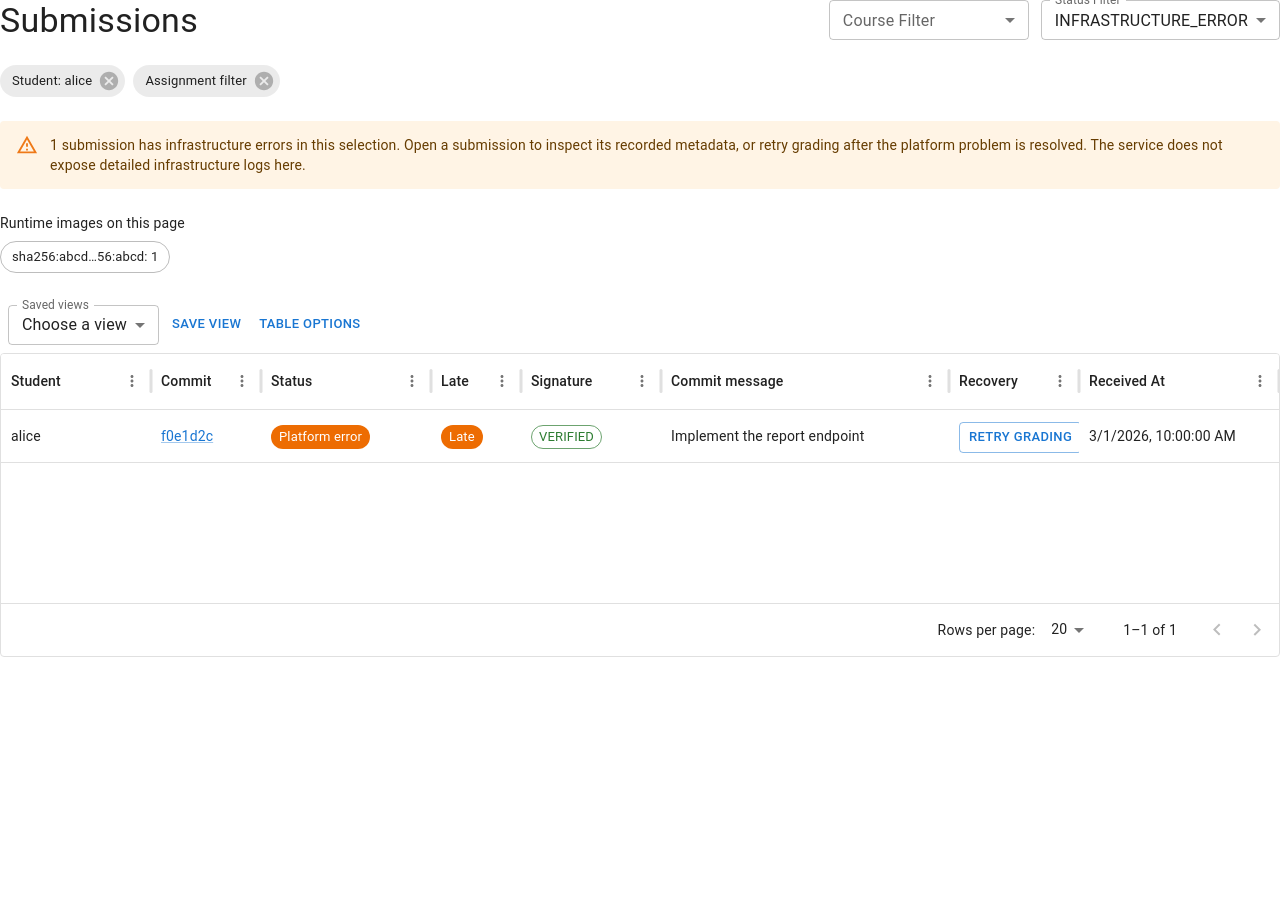
Test: passes scoped filters to the REST API and retries only after confirmation
Expected: the text "1 submission has infrastructure errors in this selection" is shown, [50,137,400,153]
Click the button "Retry grading" at x=1021, y=437, box [959,422,1082,453]
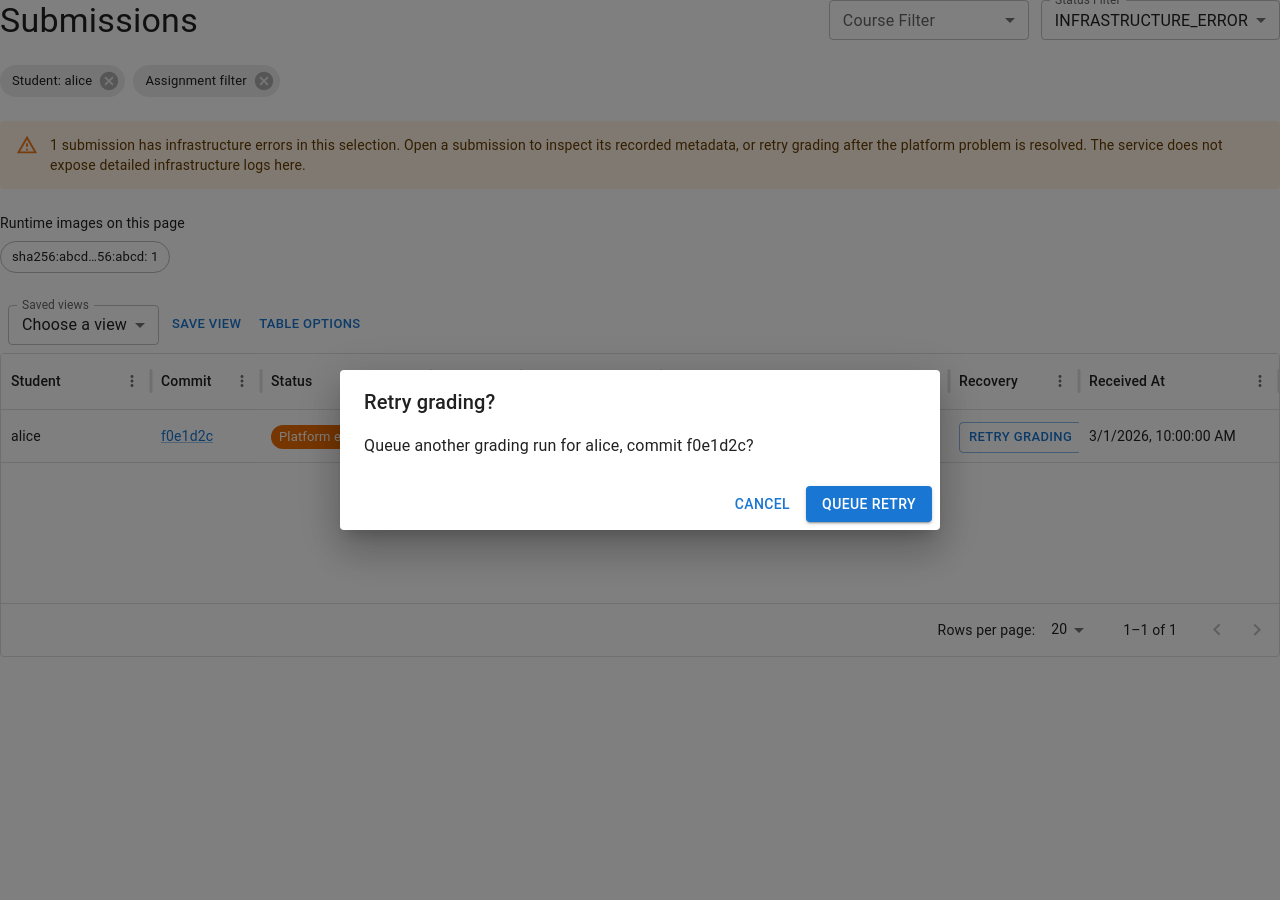
Click the button "Cancel" at x=762, y=504, box [727,486,798,522]
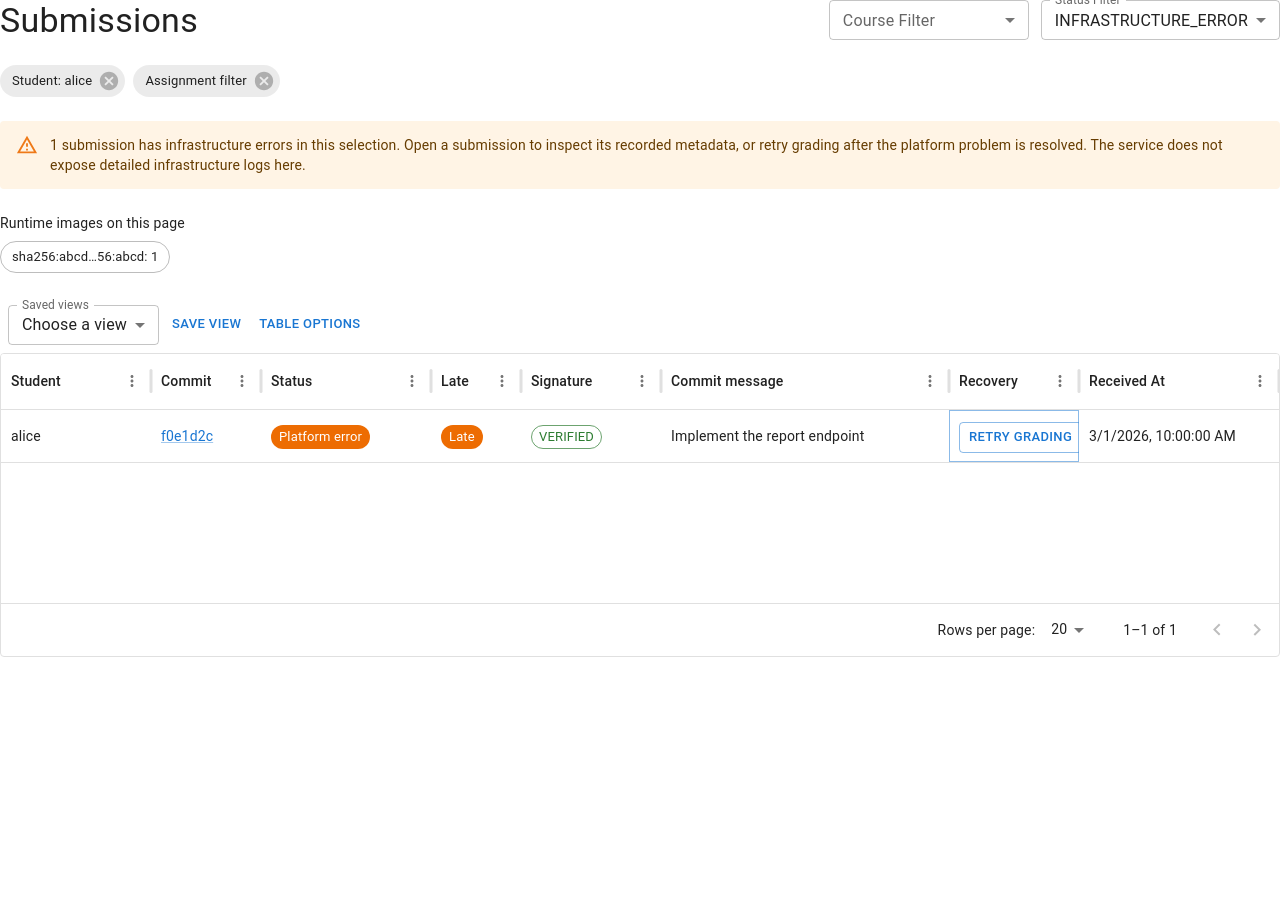
Click the button "Retry grading" at x=1021, y=437, box [959,422,1082,453]
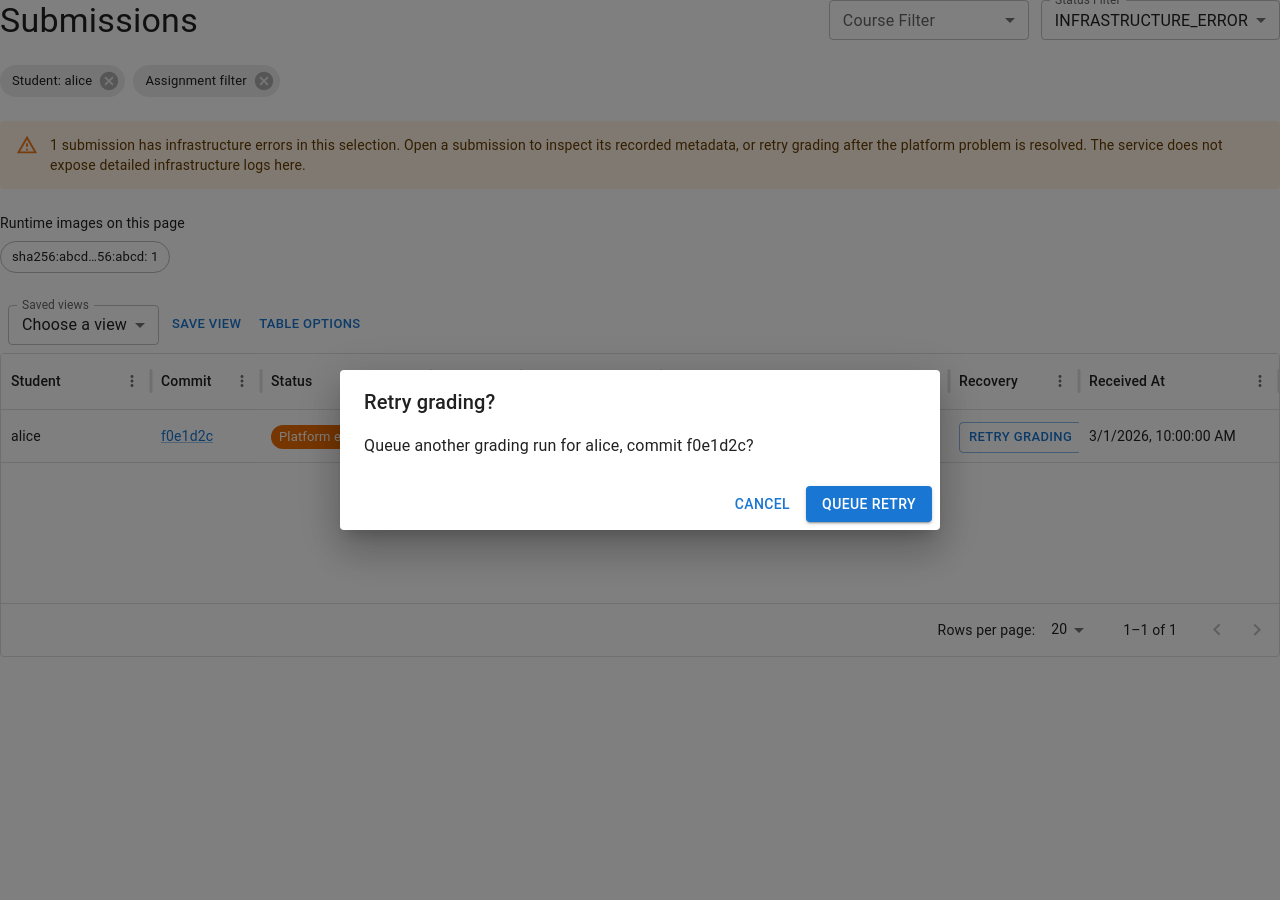
Click the button "Queue retry" at x=869, y=504, box [806,486,932,522]
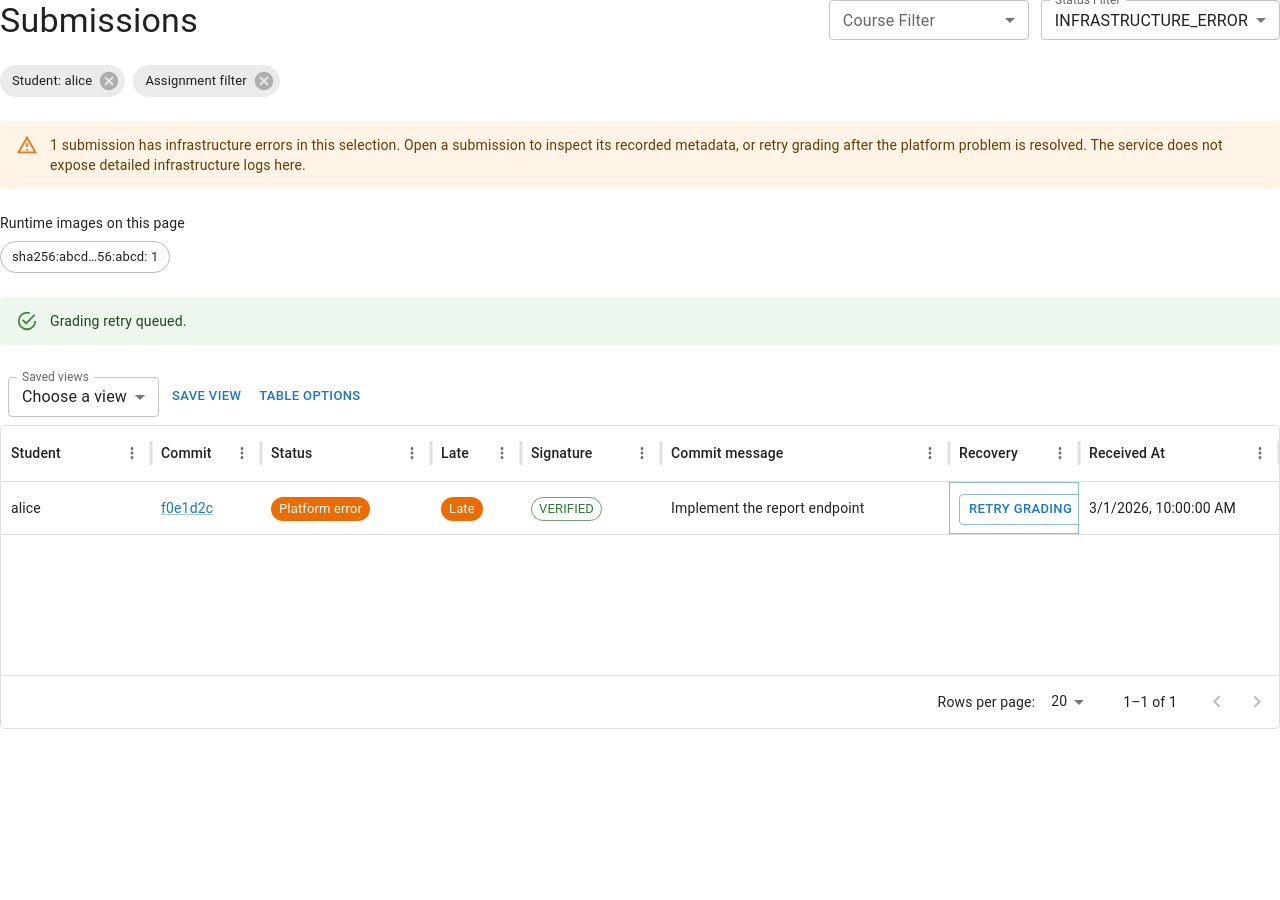
Expected: the text "Grading retry queued." is shown, [50,313,186,329]
